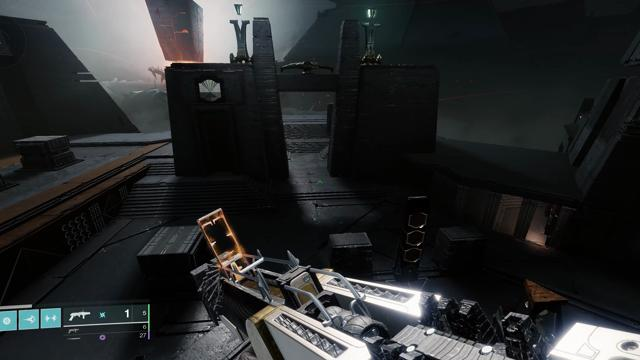commune: (199, 80, 222, 101)
